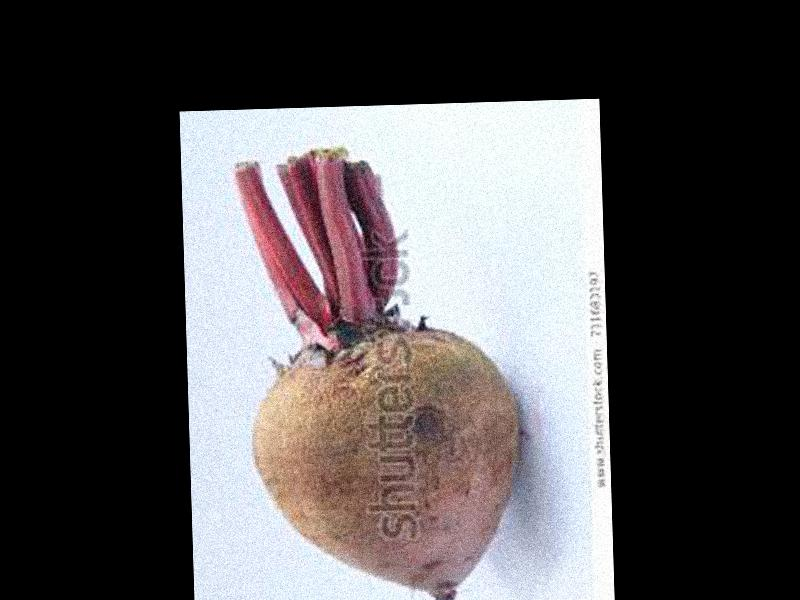Beet: (239, 151, 523, 600)
